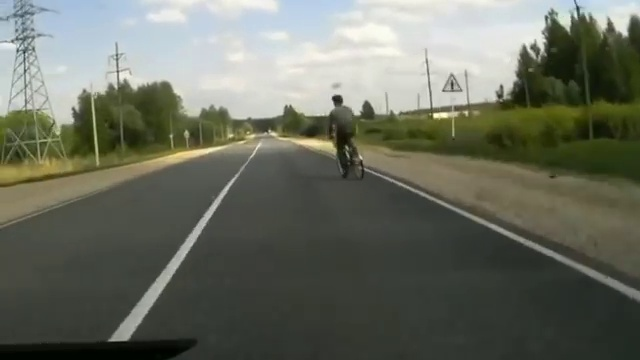cyclist_back: (322, 90, 368, 182)
